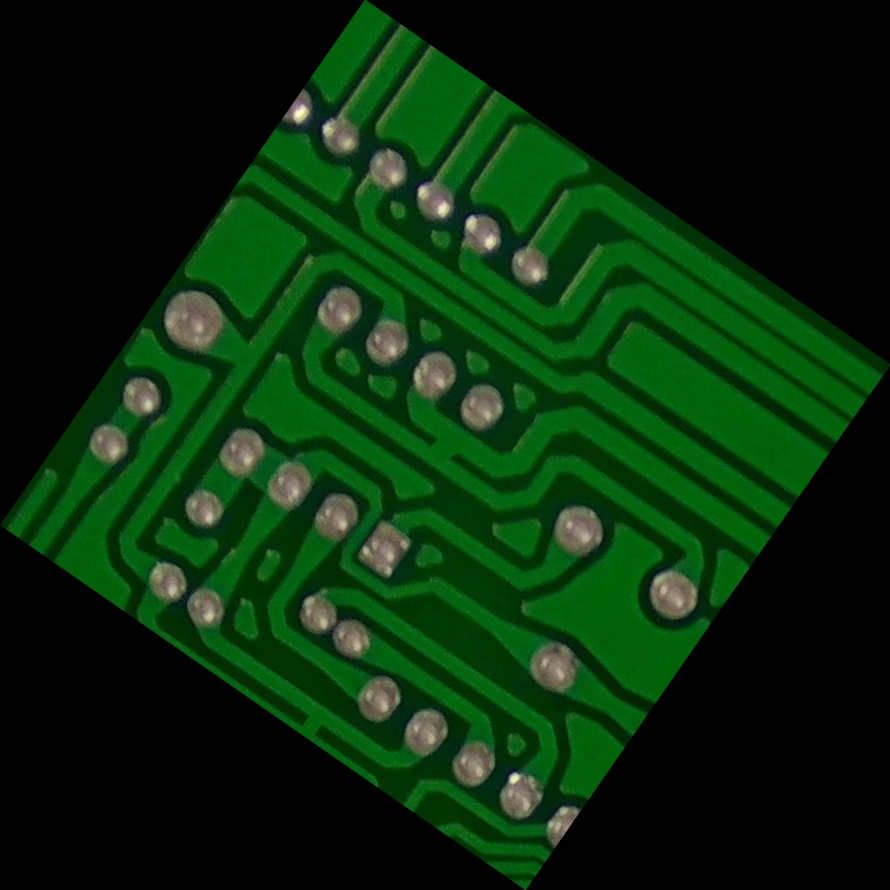short: (401, 402, 489, 488)
